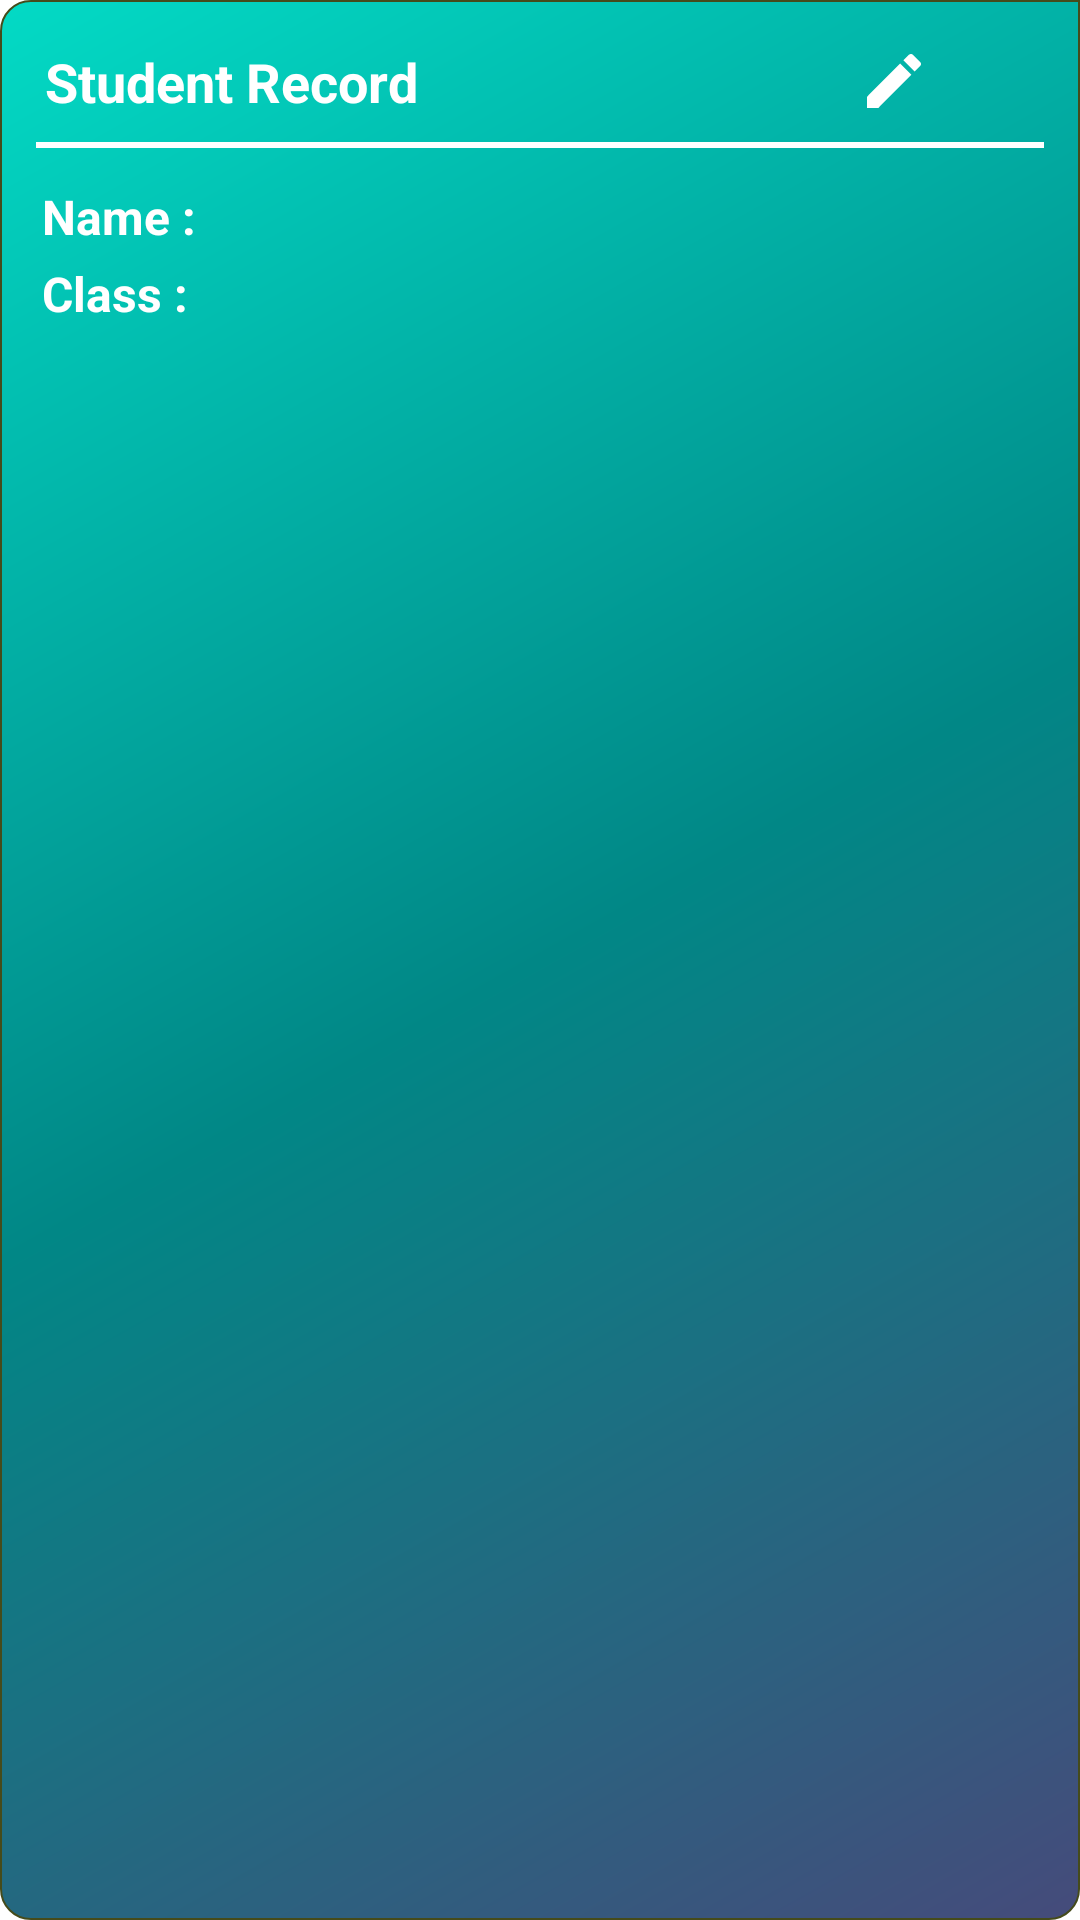

Screen size 1080 × 1920. Icon name, then its center in pixels as [x,y]:
edit: [894,81]
